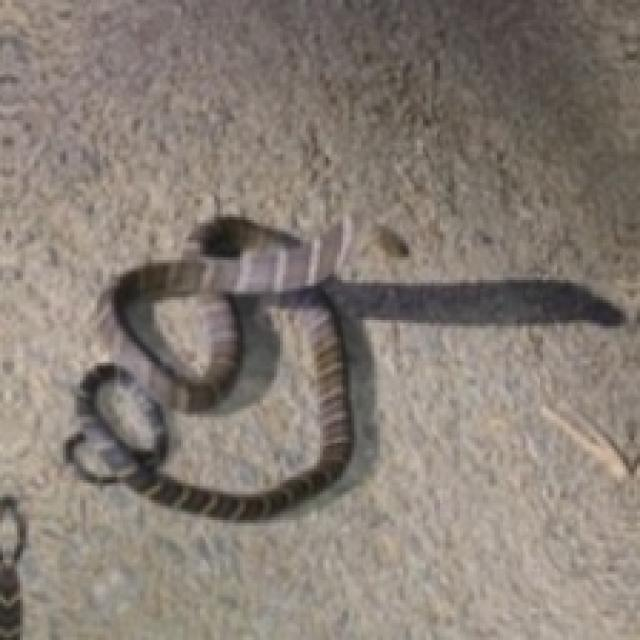king cobra: (66, 217, 620, 520)
